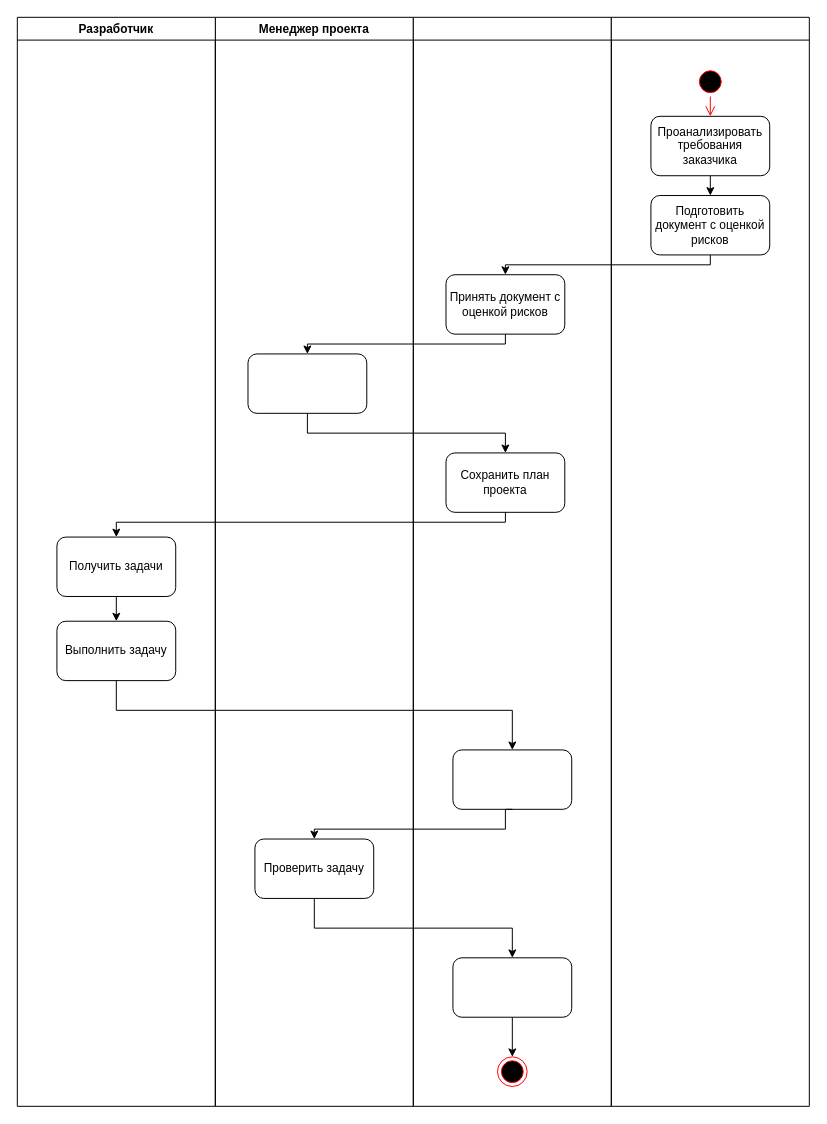
This 827x1124 diagram has some shape labels left out. Here are the shapes that lost their labels. From the top down, the box of each, then its label:
(247, 353, 367, 413): Создать план проекта
(412, 16, 611, 1106): ИС
(610, 16, 809, 1106): Аналитик
(452, 749, 572, 809): Передать статус задачи
(452, 957, 572, 1017): Подтвердить результат разработки
